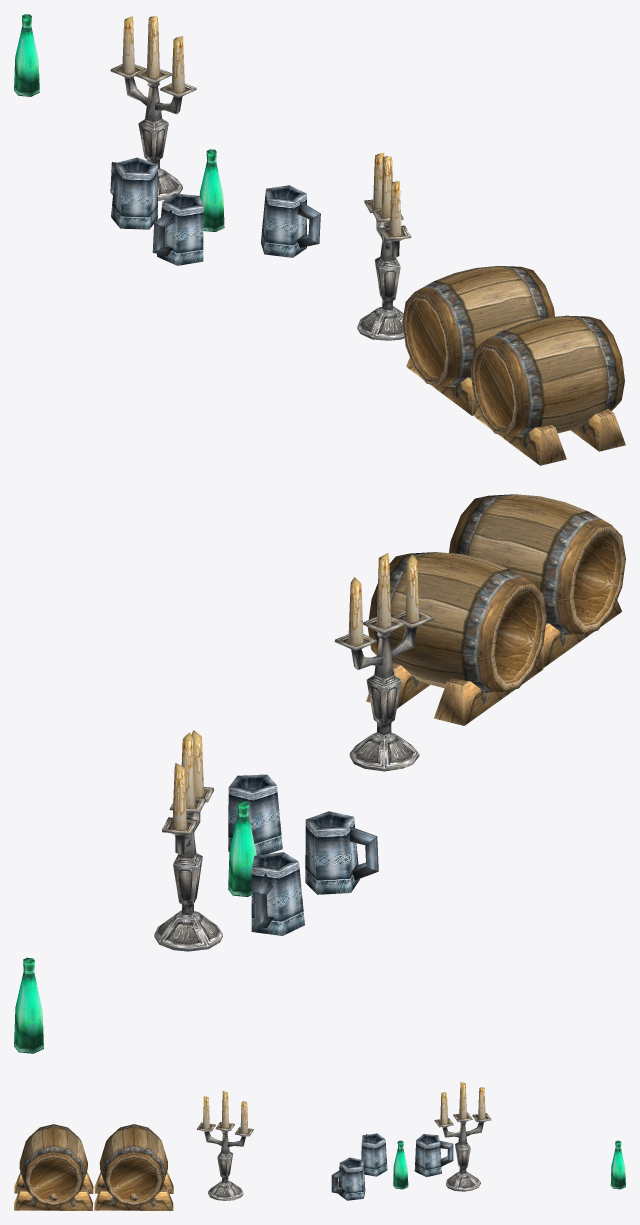
The model's file is fondo.obj.
3 views of the same model, one above another, from view 1: azimuth 30°, elevation 25°; view 2: azimuth 150°, elevation 25°; view 3: azimuth 270°, elevation 25° (orthographic). The views are drawn at different scales.
Visible parts, largest first — view 1: fondo1:polySurface395fondo, fondo1:polySurface395, fondo1:Geoset5, fondo1:Geoset0, fondo1:Geoset1, fondo1:Geoset2, fondo1:Geoset4, fondo1:Geoset6, fondo1:Geoset3; view 2: fondo1:polySurface395, fondo1:polySurface395fondo, fondo1:Geoset0, fondo1:Geoset5, fondo1:Geoset2, fondo1:Geoset4, fondo1:Geoset1, fondo1:Geoset6, fondo1:Geoset3; view 3: fondo1:polySurface395fondo, fondo1:polySurface395, fondo1:Geoset5, fondo1:Geoset0, fondo1:Geoset4, fondo1:Geoset1, fondo1:Geoset2, fondo1:Geoset3, fondo1:Geoset6.
Boxes of the visible parts, x1,y1,x2,y2 form: fondo1:polySurface395fondo: (470,315,625,465); fondo1:polySurface395: (402,266,554,415); fondo1:Geoset5: (110,16,196,200); fondo1:Geoset0: (357,152,411,340); fondo1:Geoset1: (261,185,320,257); fondo1:Geoset2: (152,193,203,265); fondo1:Geoset4: (110,157,157,229); fondo1:Geoset6: (14,14,39,96); fondo1:Geoset3: (199,149,224,231); fondo1:polySurface395: (366,552,546,725); fondo1:polySurface395fondo: (449,494,625,668); fondo1:Geoset0: (334,553,433,771); fondo1:Geoset5: (154,730,222,951); fondo1:Geoset2: (305,811,378,894); fondo1:Geoset4: (251,852,304,935); fondo1:Geoset1: (228,774,282,855); fondo1:Geoset6: (14,957,43,1053); fondo1:Geoset3: (228,801,256,896); fondo1:polySurface395fondo: (14,1124,93,1210); fondo1:polySurface395: (94,1124,173,1210); fondo1:Geoset5: (434,1082,491,1191); fondo1:Geoset0: (197,1091,253,1200); fondo1:Geoset4: (414,1134,453,1177); fondo1:Geoset1: (331,1157,365,1200); fondo1:Geoset2: (361,1133,387,1176); fondo1:Geoset3: (393,1140,408,1189); fondo1:Geoset6: (610,1140,625,1189).
Size of the model in its own units: 0.7637 by 0.6968 by 3.75.
Materials: 11 (11 with a texture image).
